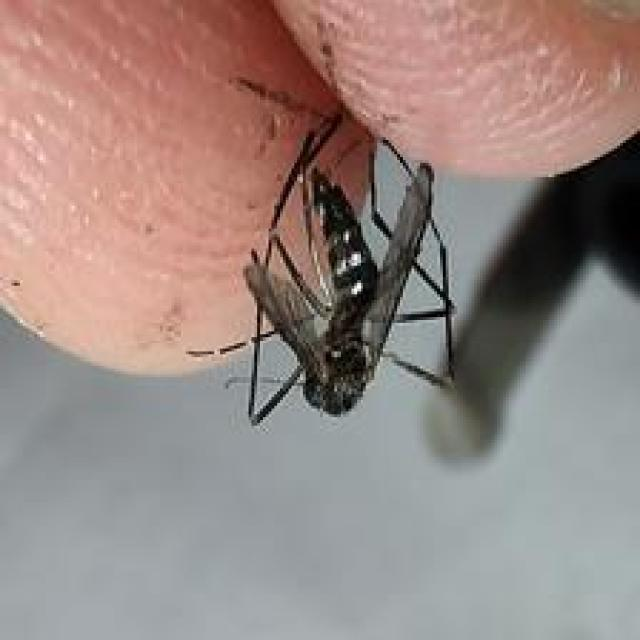Aedes albopictus: (187, 86, 462, 428)
